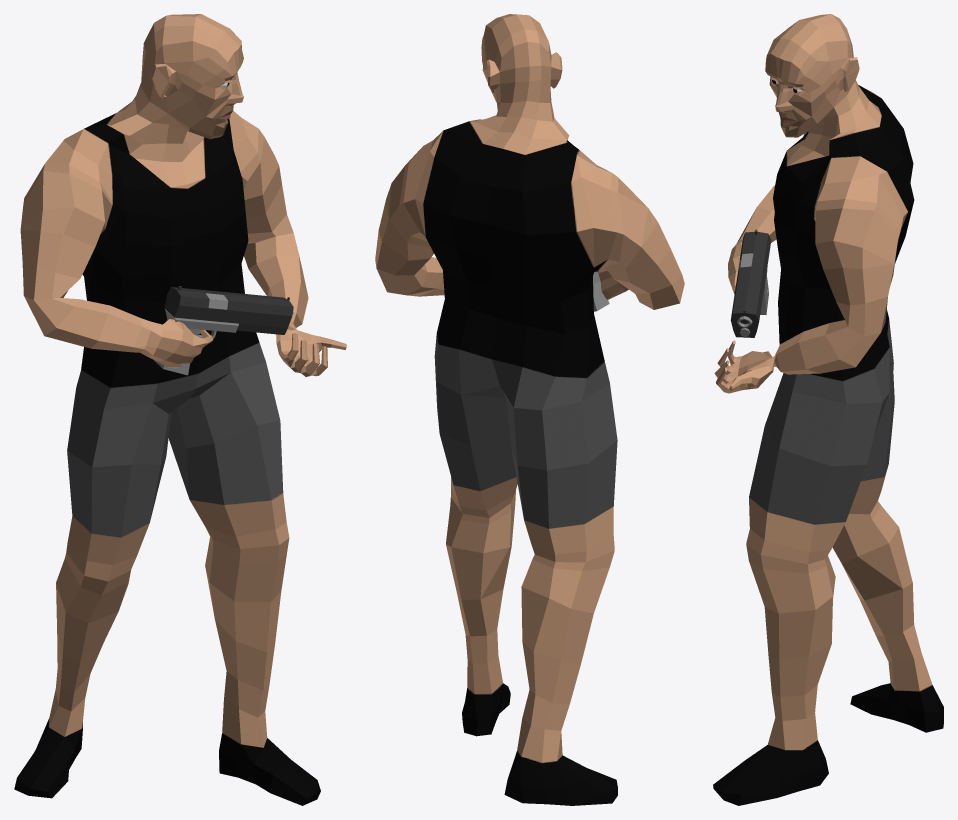
Rendered from PlayerIdle(159).obj.
The picture shows the model from 3 angles, left to right: view 1: azimuth 30°, elevation 25°; view 2: azimuth 150°, elevation 25°; view 3: azimuth 270°, elevation 25°; orthographic projection. The views are drawn at different scales.
Parts seen in each view (by area): view 1: Plane002, Box003; view 2: Plane002; view 3: Plane002, Box003.
Boxes of the visible parts, bbox=[...] form: Plane002: bbox=[14, 14, 346, 805]; Box003: bbox=[154, 286, 293, 375]; Plane002: bbox=[375, 14, 684, 805]; Plane002: bbox=[713, 14, 943, 805]; Box003: bbox=[730, 229, 771, 337].
Size of the model in its own units: 708 by 1793 by 504.
